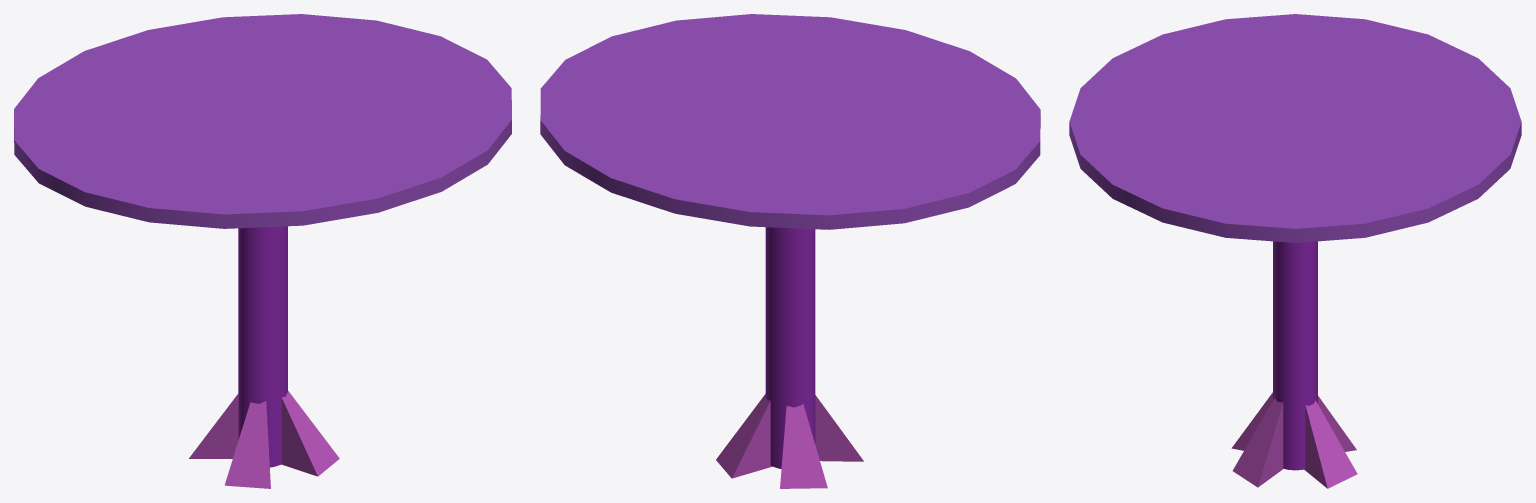
The model's file is END_TABLE.fbx.
3 renders of one model, left to right at view 1: azimuth 30°, elevation 25°; view 2: azimuth 150°, elevation 25°; view 3: azimuth 270°, elevation 25°, orthographic. The views are drawn at different scales.
Parts seen in each view (by area): view 1: table_small_2nd_pass; view 2: table_small_2nd_pass; view 3: table_small_2nd_pass.
Part boxes in pixels (x1,y1,x2,y2): table_small_2nd_pass: (14, 14, 511, 488); table_small_2nd_pass: (540, 14, 1040, 488); table_small_2nd_pass: (1069, 14, 1521, 488).
Size of the model in its own units: 162 by 119 by 144.
